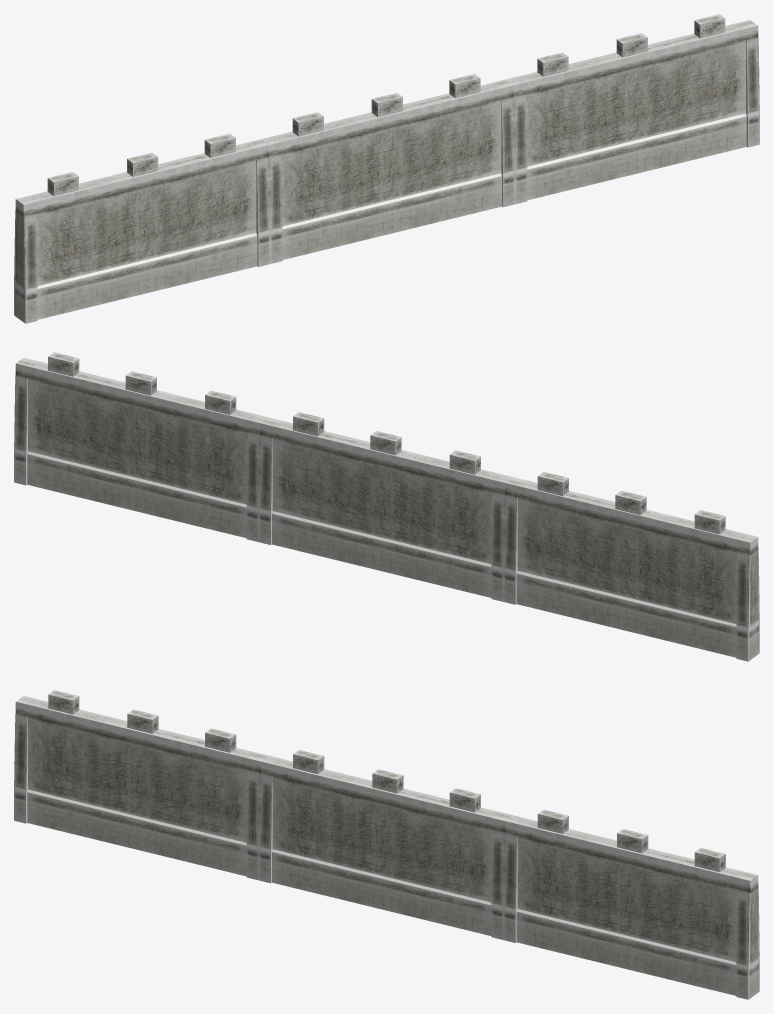
Rendered from snow-bigdam-04.fbx.
3 views of the same model, one above another, from view 1: azimuth 30°, elevation 25°; view 2: azimuth 150°, elevation 25°; view 3: azimuth 330°, elevation 25° (orthographic).
Visible parts, largest first — view 1: snow-bigdam-01; view 2: snow-bigdam-01; view 3: snow-bigdam-01.
Boxes of the visible parts, x1,y1,x2,y2 form: snow-bigdam-01: (14,14,759,323); snow-bigdam-01: (14,352,759,661); snow-bigdam-01: (14,690,759,999).
Size of the model in its own units: 30.02 by 5.14 by 0.8224.
